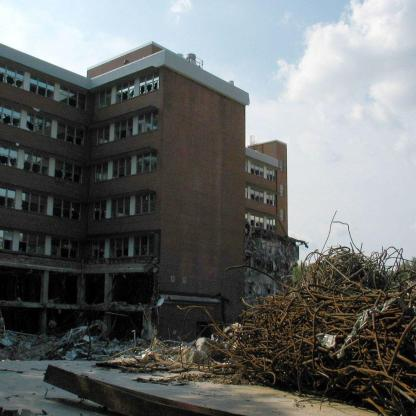rebar: (154, 206, 416, 416)
